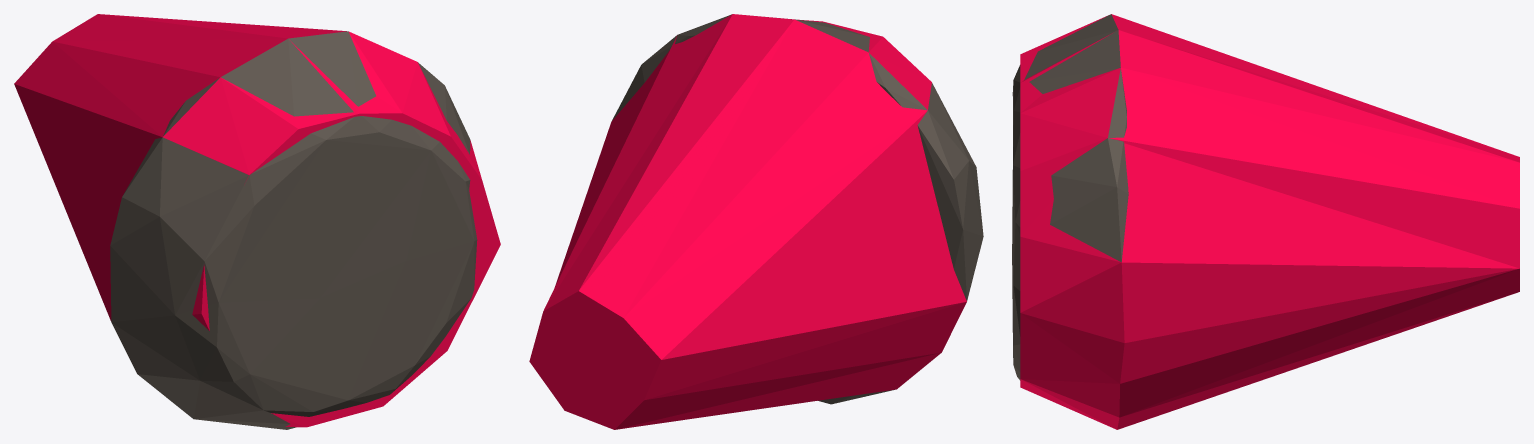
File: arcade.fbx
3 renders of one model, left to right at view 1: azimuth 30°, elevation 25°; view 2: azimuth 150°, elevation 25°; view 3: azimuth 270°, elevation 25°, orthographic.
Visible parts, largest first — view 1: Base, Arcade - Physx; view 2: Arcade - Physx, Base; view 3: Arcade - Physx, Base.
Part boxes in pixels (box(x1,y1,x2,y2)): Base: box(110, 31, 477, 429); Arcade - Physx: box(14, 14, 500, 427); Arcade - Physx: box(529, 14, 966, 429); Base: box(612, 14, 983, 404); Arcade - Physx: box(1020, 14, 1519, 429); Base: box(1012, 14, 1128, 380).
Size of the model in its own units: 14.02 by 17.47 by 14.18.
